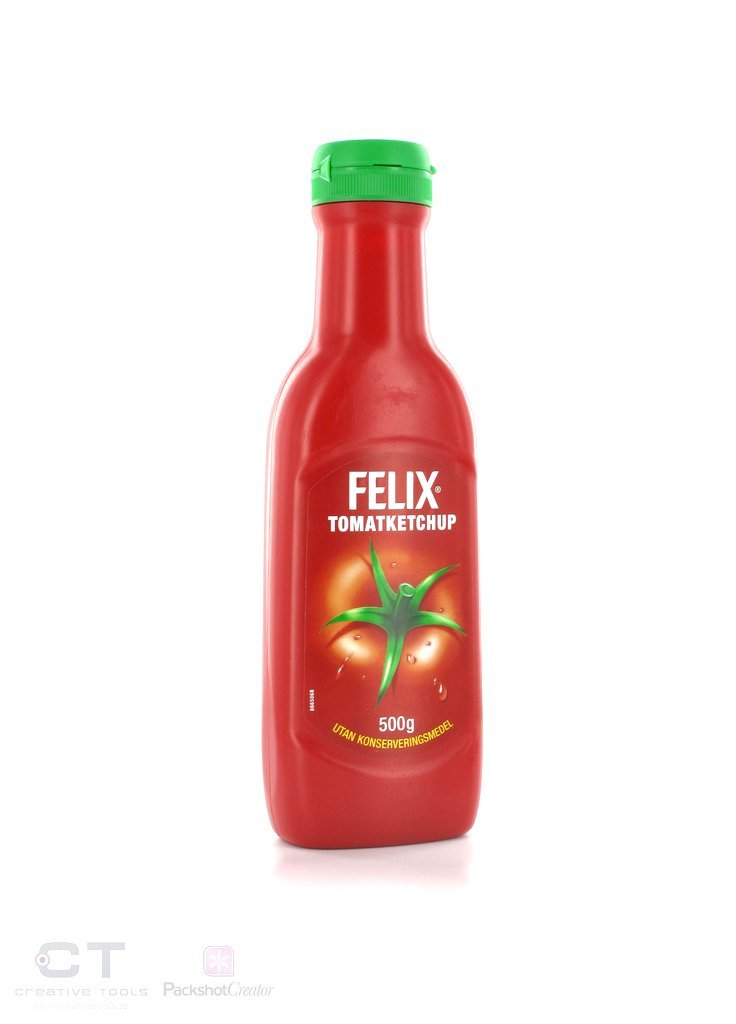Tomato: (314, 529, 477, 712)
